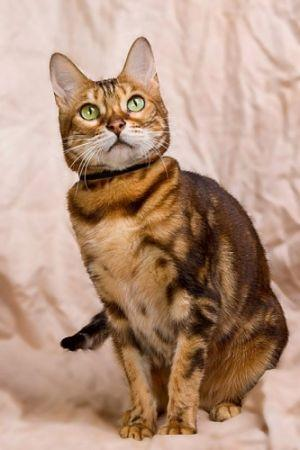bengal: (44, 34, 178, 177)
